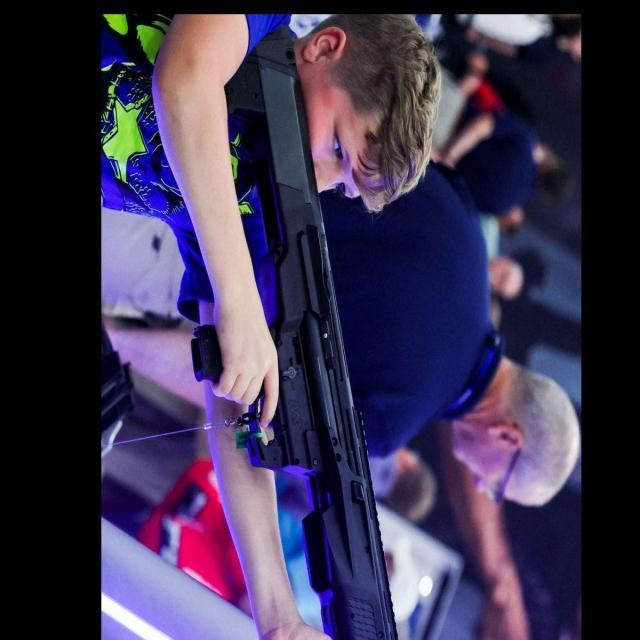weapon: (190, 34, 398, 640)
